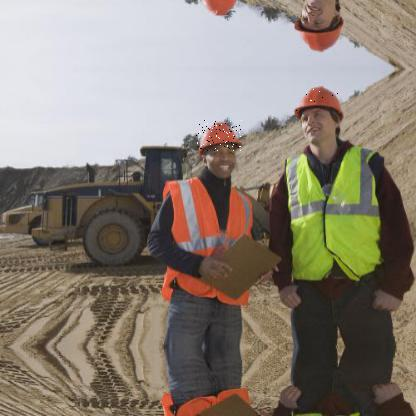safetyhelmet: (293, 81, 345, 118), (196, 120, 243, 152)
